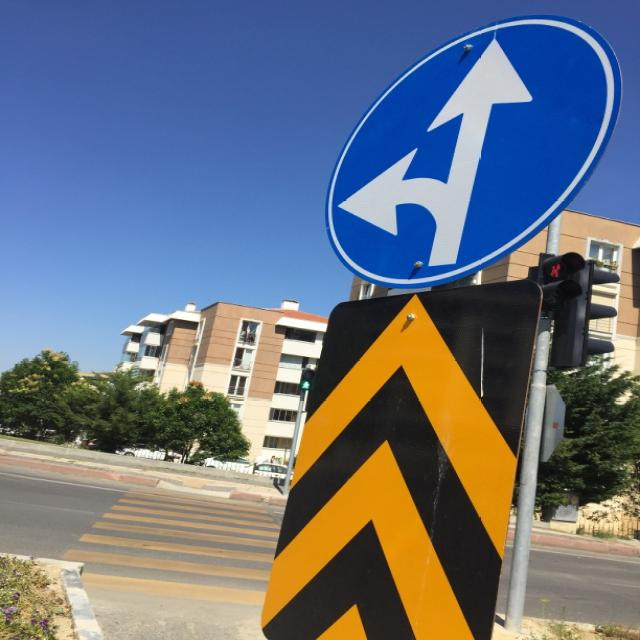ilerisol: (324, 15, 622, 289)
